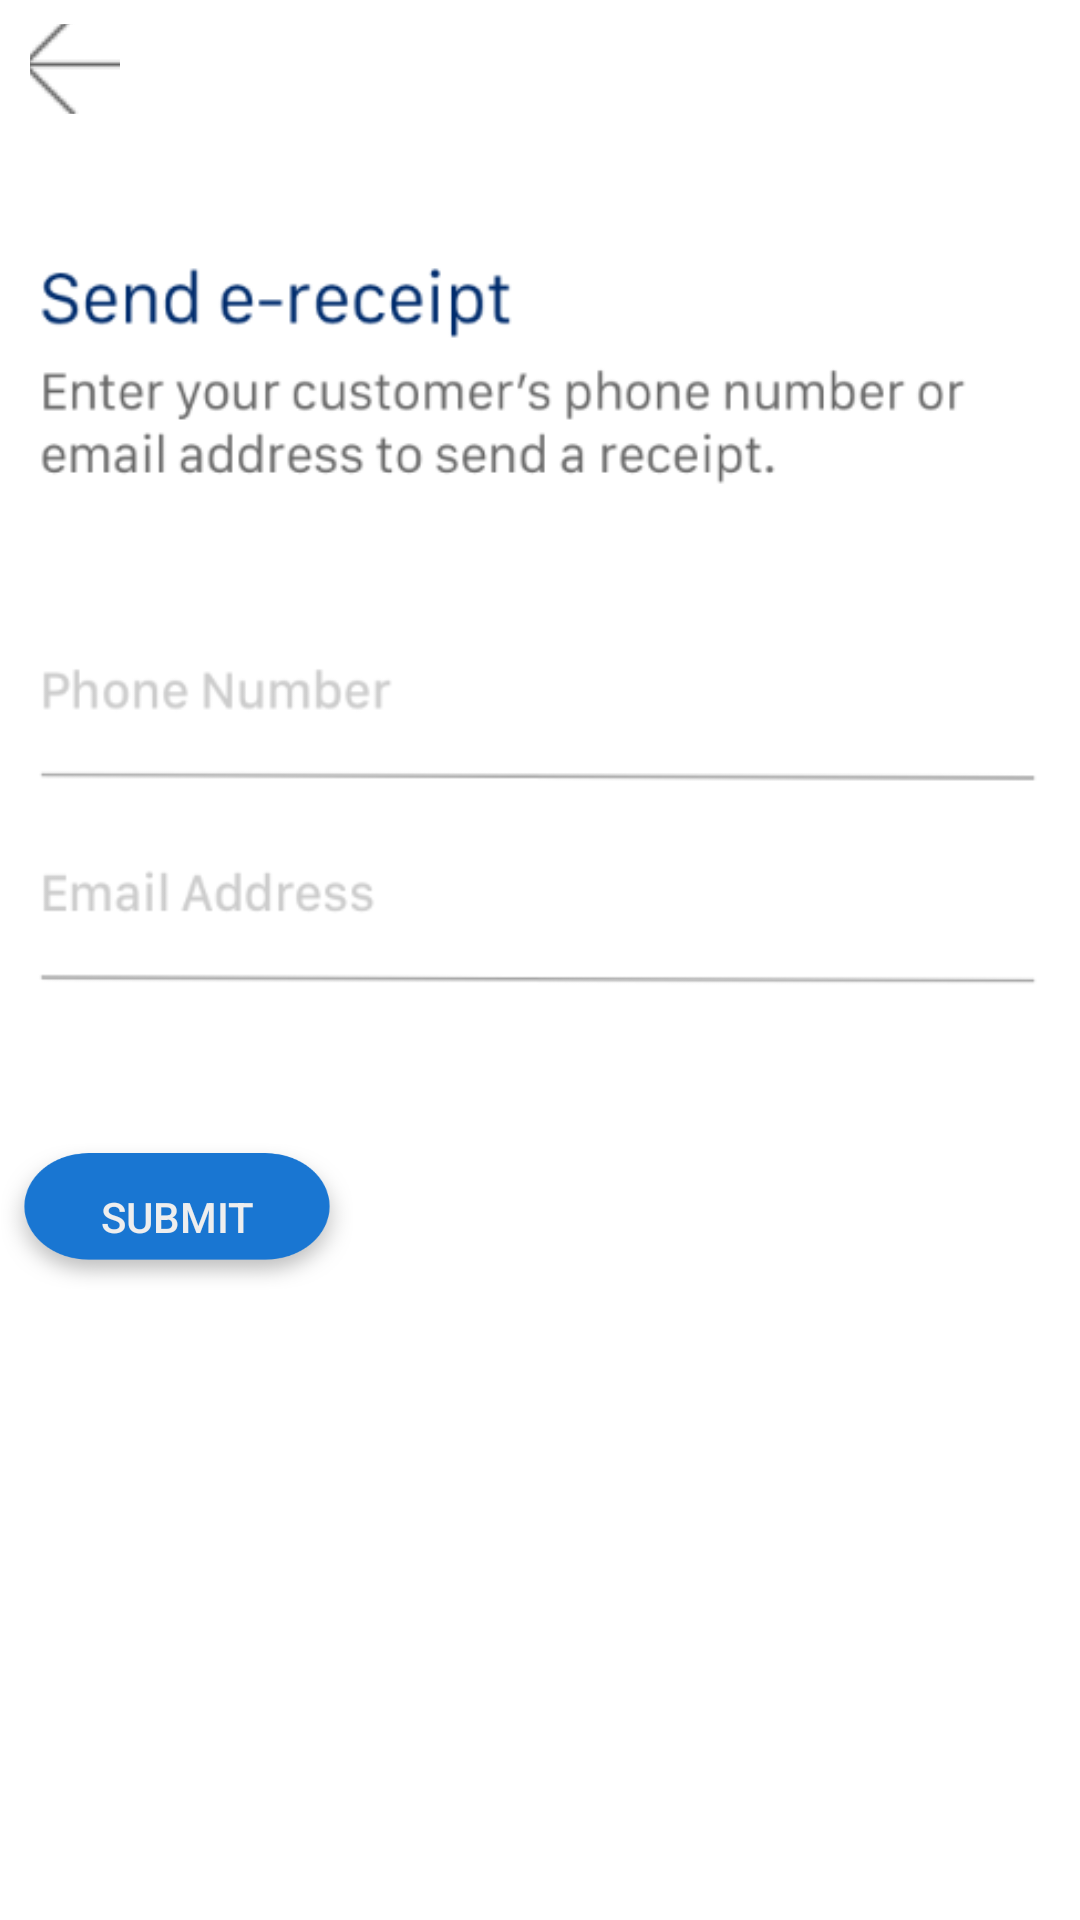

Icon click points for this 1080*1920 phone screenshot, format point (x, y):
imgback: point (75, 69)
